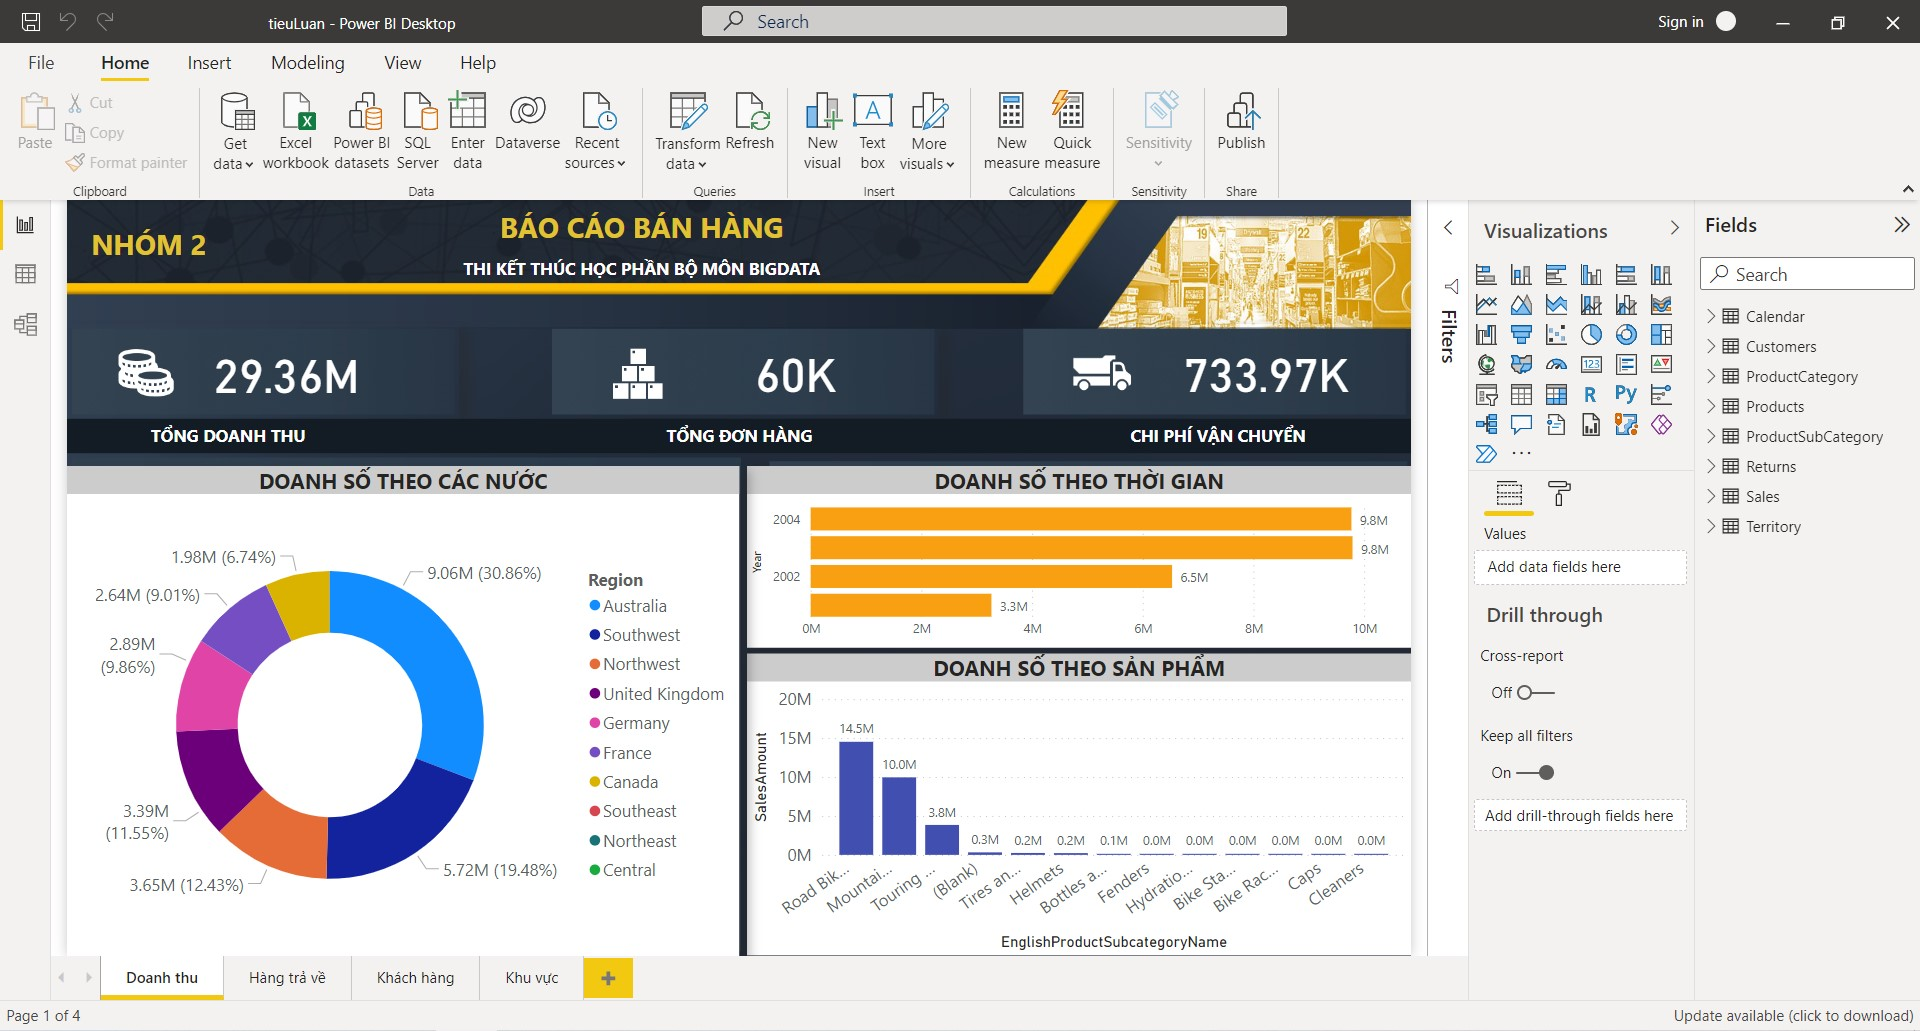

What the dashboard file says about the page in this screenshot:
{"tool":"powerbi","page":{"name":"Doanh thu","canvas":[1280,720],"ordinal":0},"visuals":[{"type":"image","box":[0,240.4,646.8,479.6],"z":0},{"type":"image","box":[663.8,432.5,616.8,287.5],"z":1000},{"type":"image","box":[663.8,244.4,616.8,177.7],"z":2000},{"type":"image","box":[457.4,117.6,373.7,91.5],"z":3000},{"type":"image","box":[905.6,117.6,373.7,91.5],"z":4000},{"type":"image","box":[0,117.6,373.7,91.5],"z":5000},{"type":"card","fields":{"Values":["Sales.Tổng thu nhập"]},"box":[119.3,119.7,179.6,86.2],"z":6000},{"type":"clusteredBarChart","title":"DOANH SỐ THEO THỜI GIAN","fields":{"Category":["Sales.OrderDate.Variation.Date Hierarchy.Year","Sales.OrderDate.Variation.Date Hierarchy.Quarter","Sales.OrderDate.Variation.Date Hierarchy.Month","Sales.OrderDate.Variation.Date Hierarchy.Day"],"Y":["Sum(Sales.SalesAmount)"]},"box":[646.8,253.5,632.5,172.5],"z":7000},{"type":"columnChart","title":"DOANH SỐ THEO SẢN PHẨM","fields":{"Category":["ProductSubCategory.EnglishProductSubcategoryName"],"Y":["Sum(Sales.SalesAmount)"]},"box":[646.8,432.5,632.5,287.5],"z":8000},{"type":"donutChart","title":"DOANH SỐ THEO CÁC NƯỚC","fields":{"Category":["Territory.Region"],"Y":["Sum(Sales.SalesAmount)"]},"box":[0,253.2,640,466.6],"z":9000},{"type":"textbox","box":[374.7,2.6,326.7,53.6],"z":10000},{"type":"textbox","box":[0,18.7,153.8,53.2],"z":11000},{"type":"textbox","box":[342.7,48.3,390.7,39.2],"z":12000},{"type":"image","box":[39.5,129.4,70,70],"z":13000},{"type":"image","box":[508.3,129.4,70.6,70.6],"z":14000},{"type":"shape","box":[0,208.2,1280.5,33.1],"z":15000},{"type":"textbox","box":[57.5,208.5,192.6,34.5],"z":16000},{"type":"card","fields":{"Values":["Sales.Tổng đặt hàng"]},"box":[633.8,116.8,119.3,92],"z":17000},{"type":"textbox","box":[543.7,208.5,192.6,34.5],"z":18000},{"type":"textbox","box":[999.6,208.7,192.1,34],"z":19000},{"type":"card","fields":{"Values":["Sales.Tổng chi phí vận chuyển"]},"box":[1029.7,119,224.8,87.5],"z":20000},{"type":"image","box":[950.3,129.4,70,70],"z":21000}]}

Visuals, with their boxes on the page's 1280x720 design canvas (x1, y1, x2, y2). These are canvas units, not pixel positions in the 1920x1031 screenshot, which may show the page scaled, cropped or inside an application window:
image: 0/240/647/720
image: 664/432/1281/720
image: 664/244/1281/422
image: 457/118/831/209
image: 906/118/1279/209
image: 0/118/374/209
card - Sales.Tổng thu nhập: 119/120/299/206
"DOANH SỐ THEO THỜI GIAN" clusteredBarChart: 647/254/1279/426
"DOANH SỐ THEO SẢN PHẨM" columnChart: 647/432/1279/720
"DOANH SỐ THEO CÁC NƯỚC" donutChart: 0/253/640/720
textbox: 375/3/701/56
textbox: 0/19/154/72
textbox: 343/48/733/88
image: 40/129/110/199
image: 508/129/579/200
shape: 0/208/1280/241
textbox: 58/208/250/243
card - Sales.Tổng đặt hàng: 634/117/753/209
textbox: 544/208/736/243
textbox: 1000/209/1192/243
card - Sales.Tổng chi phí vận chuyển: 1030/119/1254/206
image: 950/129/1020/199
